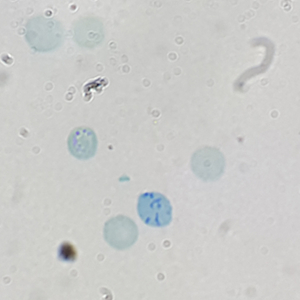aggregate reticulocyte: (135, 190, 175, 229)
erythrocyte: (23, 13, 68, 54), (188, 144, 228, 183), (68, 13, 107, 51), (66, 124, 100, 162)
punctate reticulocyte: (101, 214, 140, 252)
